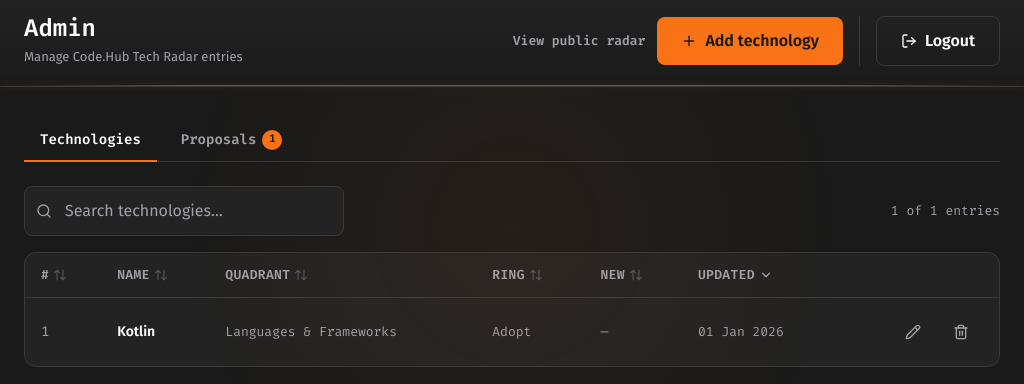
Scenario: AdminPage proposals moderation › switches to the Proposals tab on click and shows its pending list, hiding the Technologies content
The width and height of the screenshot is (1024, 384).
Expected: the text "Kotlin" is shown, [101, 297, 209, 366]
Click the tab with aria-label "Proposals, 1 pending" at coordinates (232, 141), box [165, 119, 298, 162]
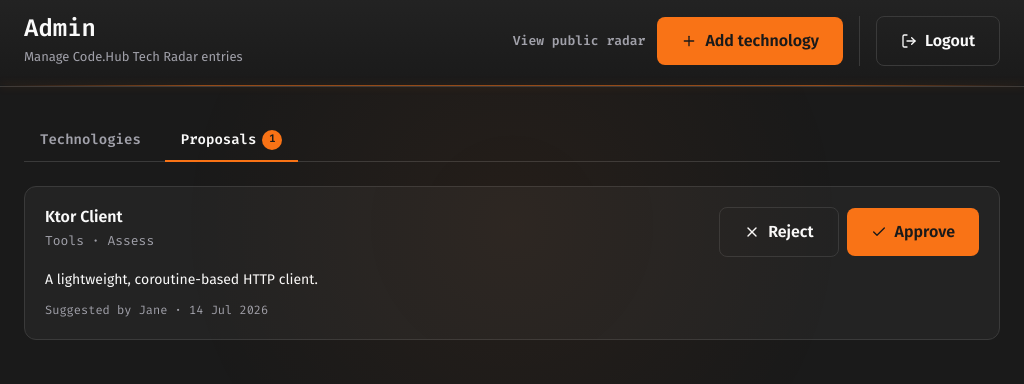
Result: the heading "Ktor Client" is shown at [45, 207, 123, 226]
